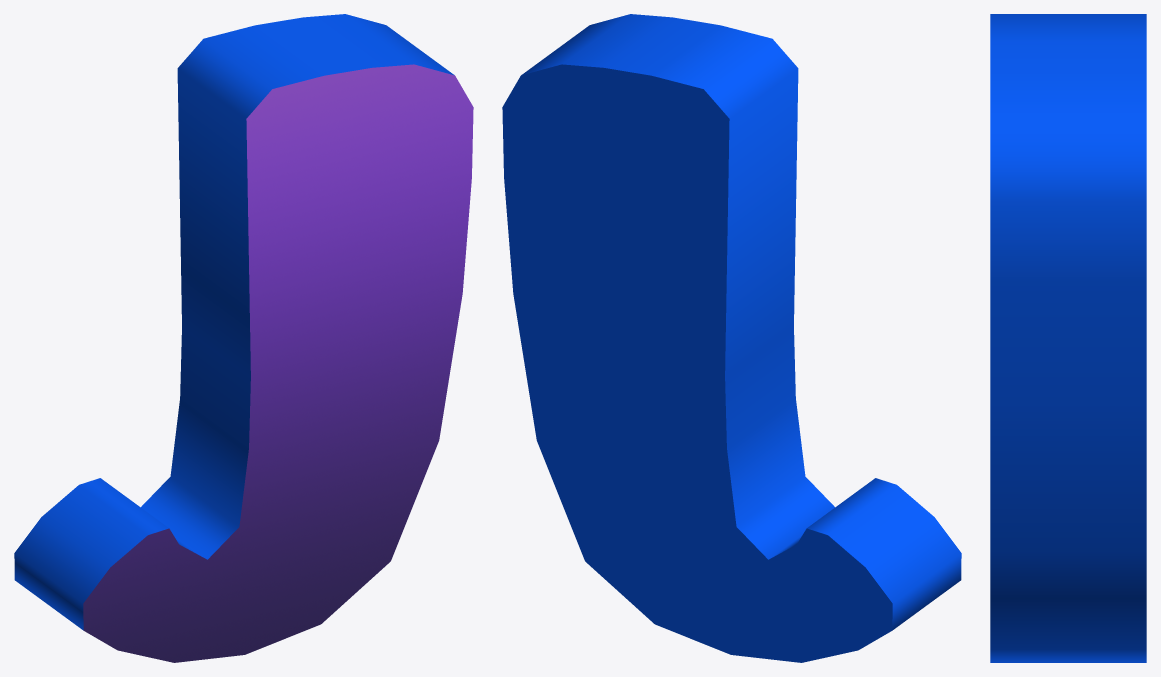
The picture shows the model from 3 angles, left to right: view 1: azimuth 30°, elevation 25°; view 2: azimuth 150°, elevation 25°; view 3: azimuth 270°, elevation 25°; orthographic projection. The views are drawn at different scales.
Parts seen in each view (by area): view 1: J; view 2: J; view 3: J.
Part boxes in pixels (<box>): J: <box>14,14,473,662</box>; J: <box>502,14,961,662</box>; J: <box>990,14,1146,662</box>.
Size of the model in its own units: 65.4 by 89.66 by 20.
2 materials, 1 textured.
